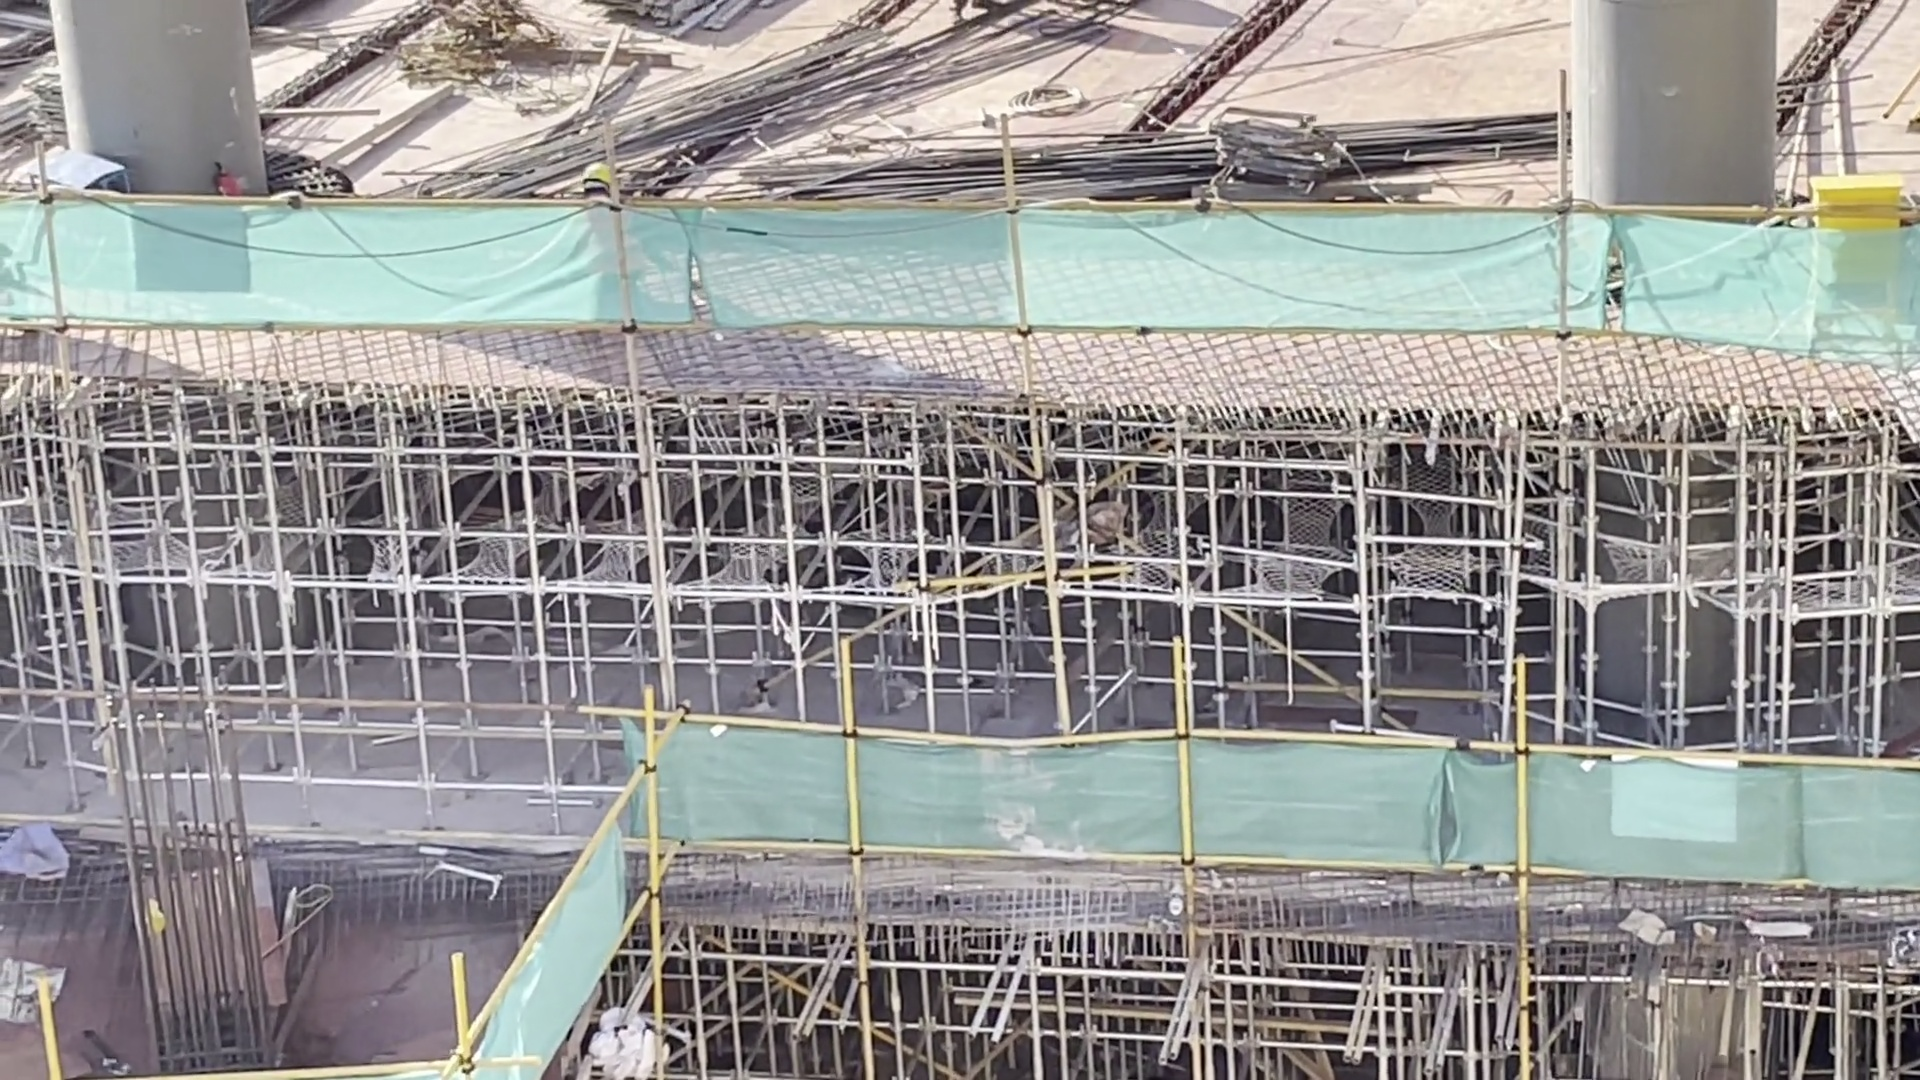ebox: (1789, 157, 1920, 336)
